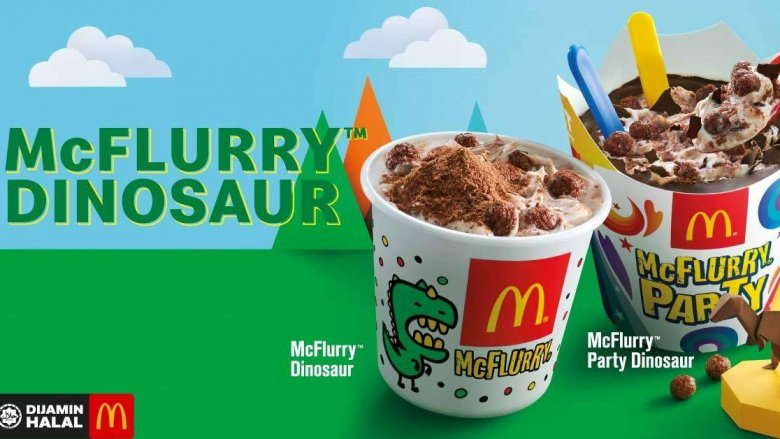mcdonalds: (482, 280, 548, 338), (679, 205, 741, 243)
